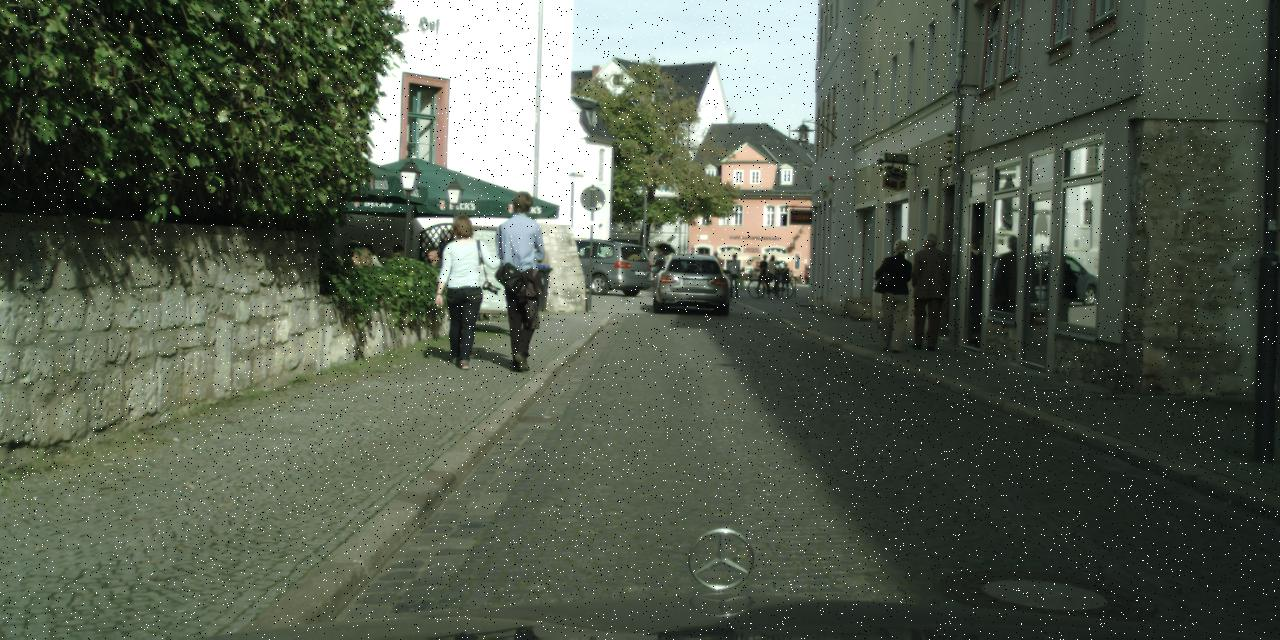ped: (484, 190, 558, 370), (432, 214, 492, 366), (903, 232, 951, 350), (872, 240, 918, 350), (343, 240, 403, 266), (724, 252, 742, 297), (759, 254, 789, 280), (649, 248, 671, 266), (651, 271, 656, 281), (405, 248, 406, 255), (773, 294, 776, 295)
